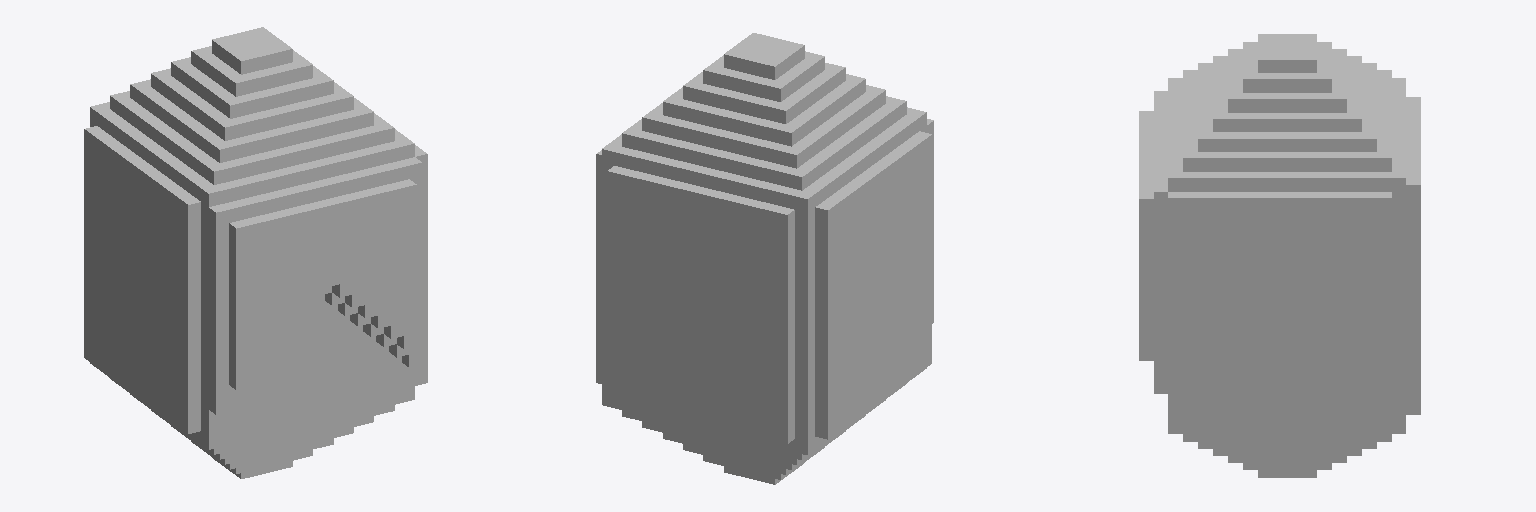
Rendered from body4.obj.
The picture shows the model from 3 angles: view 1: azimuth 30°, elevation 25°; view 2: azimuth 150°, elevation 25°; view 3: azimuth 270°, elevation 25°; orthographic projection.
Parts seen in each view (by area): view 1: object 1; view 2: object 1; view 3: object 1.
Part boxes in pixels (bbox=[...]): object 1: bbox=[84, 27, 427, 478]; object 1: bbox=[596, 33, 933, 484]; object 1: bbox=[1139, 34, 1420, 477].
Bounding box in the file's own units: 1.8 × 3.1 × 1.9.